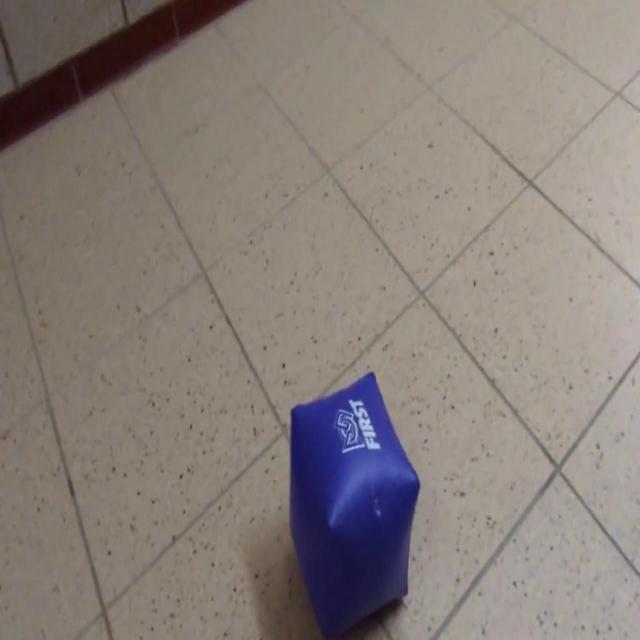frc_cube: (288, 368, 426, 640)
